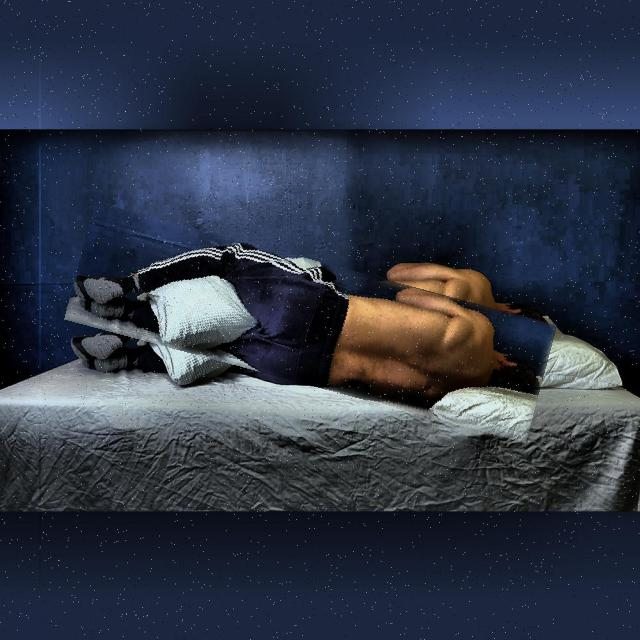Not_Supine: (75, 244, 541, 404)
